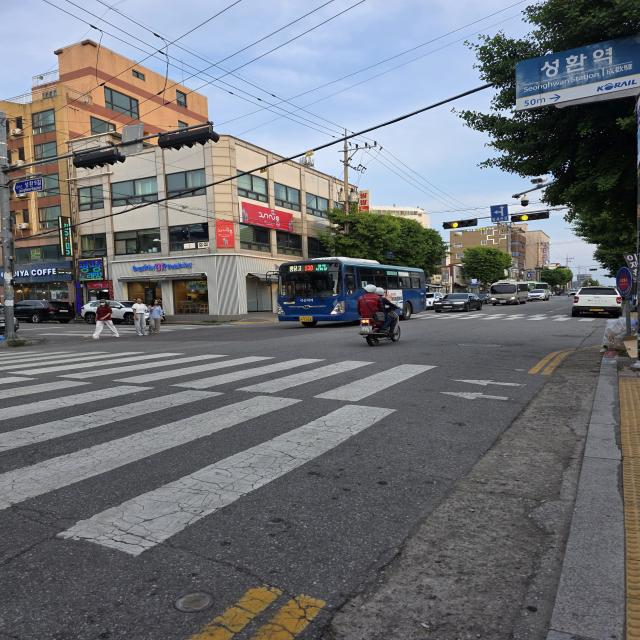car: (272, 258, 431, 330), (574, 280, 638, 316), (81, 302, 153, 324), (12, 299, 72, 324), (433, 293, 488, 314), (491, 276, 533, 303)
motorcycle: (356, 283, 419, 348)
